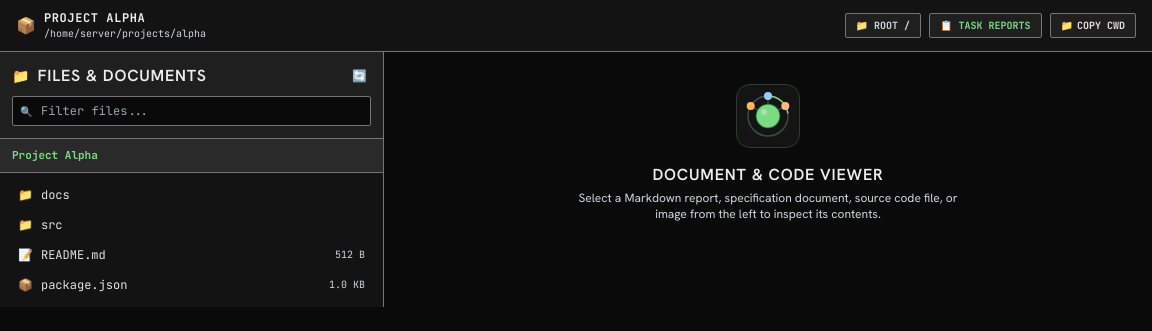
ProjectExplorer Component › hides the Notes link for root-level markdown while keeping the preview
What coordinates should you click on to do the following:
click the text "README.md"
I would click on:
 (73, 254)
Its box is [41, 246, 106, 262].
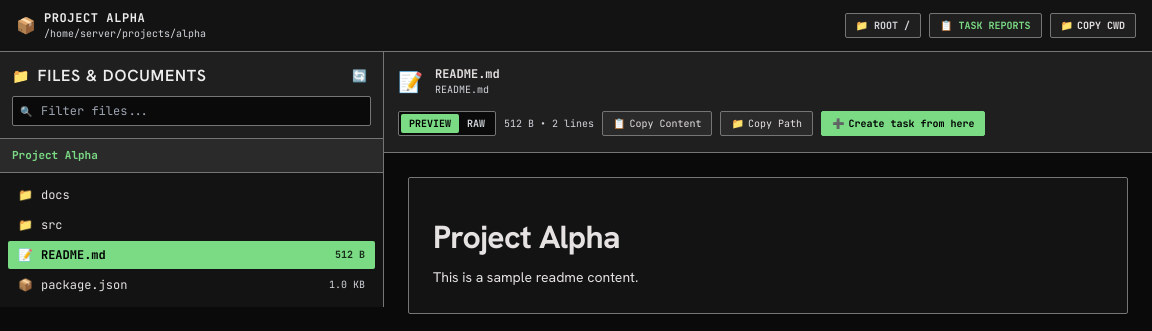
Now the text "This is a sample readme content." is shown, box [433, 268, 638, 286]
Now the button "📁 Copy Path" is shown, box [720, 111, 813, 136]
